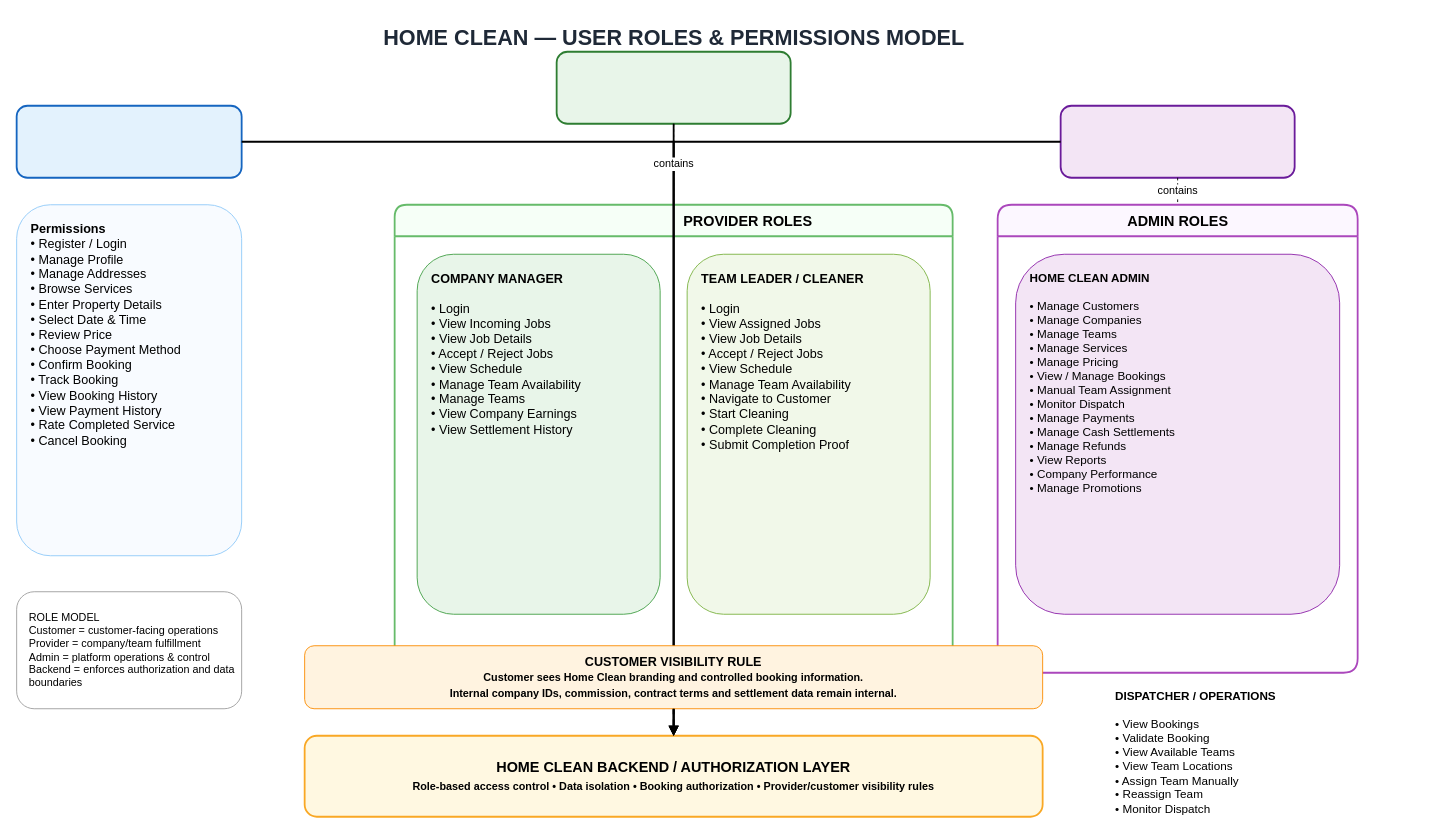
This 1441x833 diagram has some shape labels left out. Here are the shapes that lost their labels. From the top down, the centre of each, then its label:
At pixel 673 87: "PROVIDER APP".
At pixel 128 141: "CUSTOMER Customer Mobile App".
At pixel 1177 141: "ADMIN DASHBOARD".
